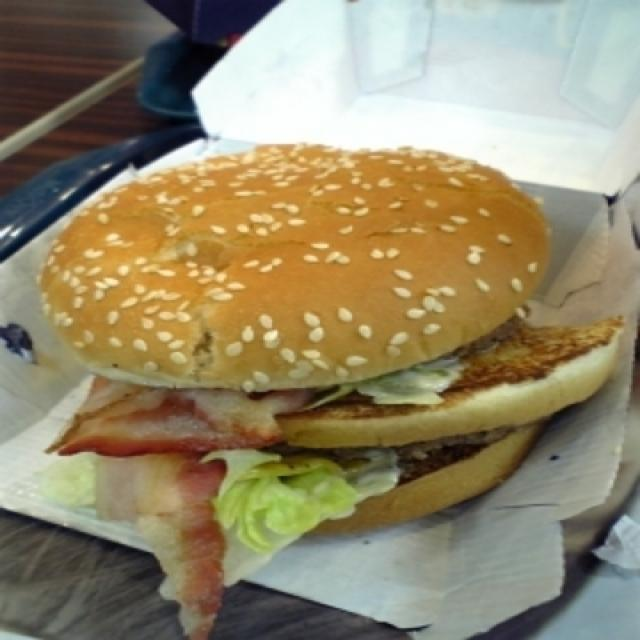Hamburger: (45, 147, 619, 520)
